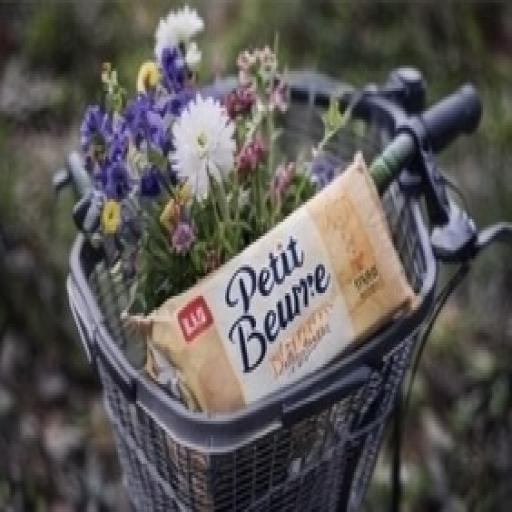petit-beurre: (130, 144, 431, 411)
